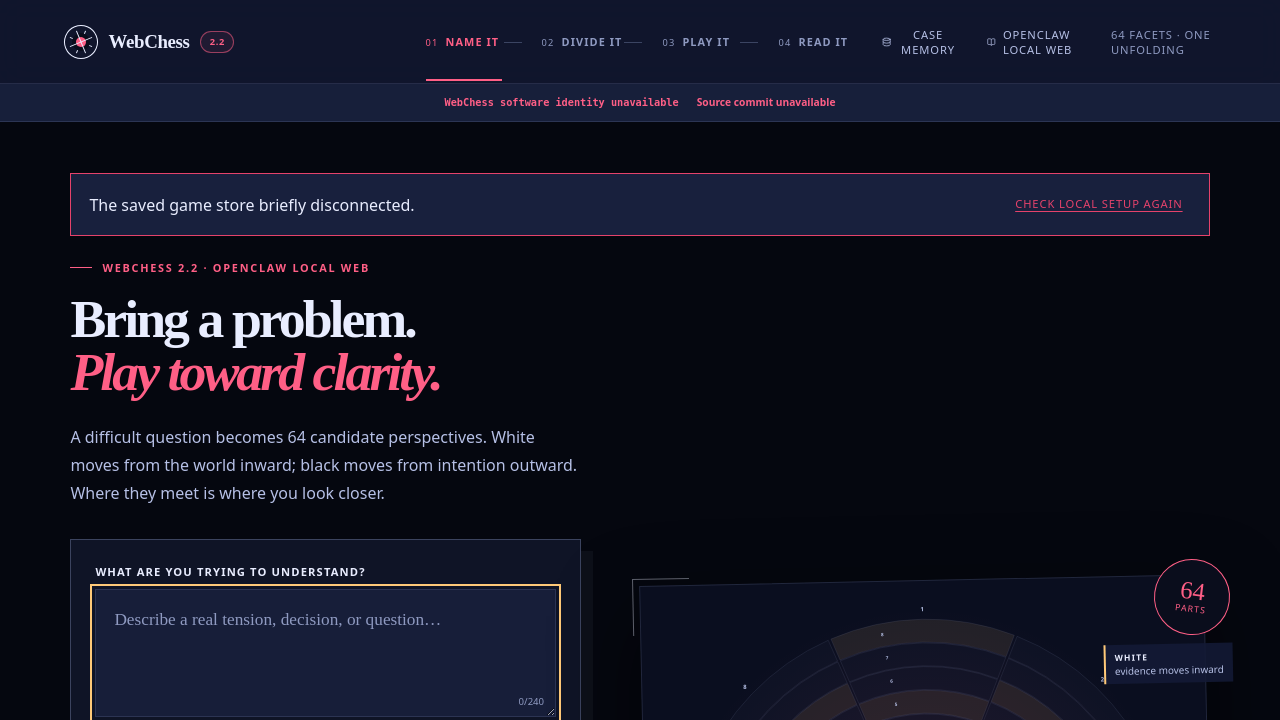
Test: durable WebChess client flow › treats an absent local recovery as definitive after an ambiguous division
This screenshot has width=1280, height=720.
Step 1. Type "How should this position move toward a useful next step?" into the text box labelled "What are you trying to understand?" → {"x": 326, "y": 653}, box [95,589,556,717]
(page scrolled)
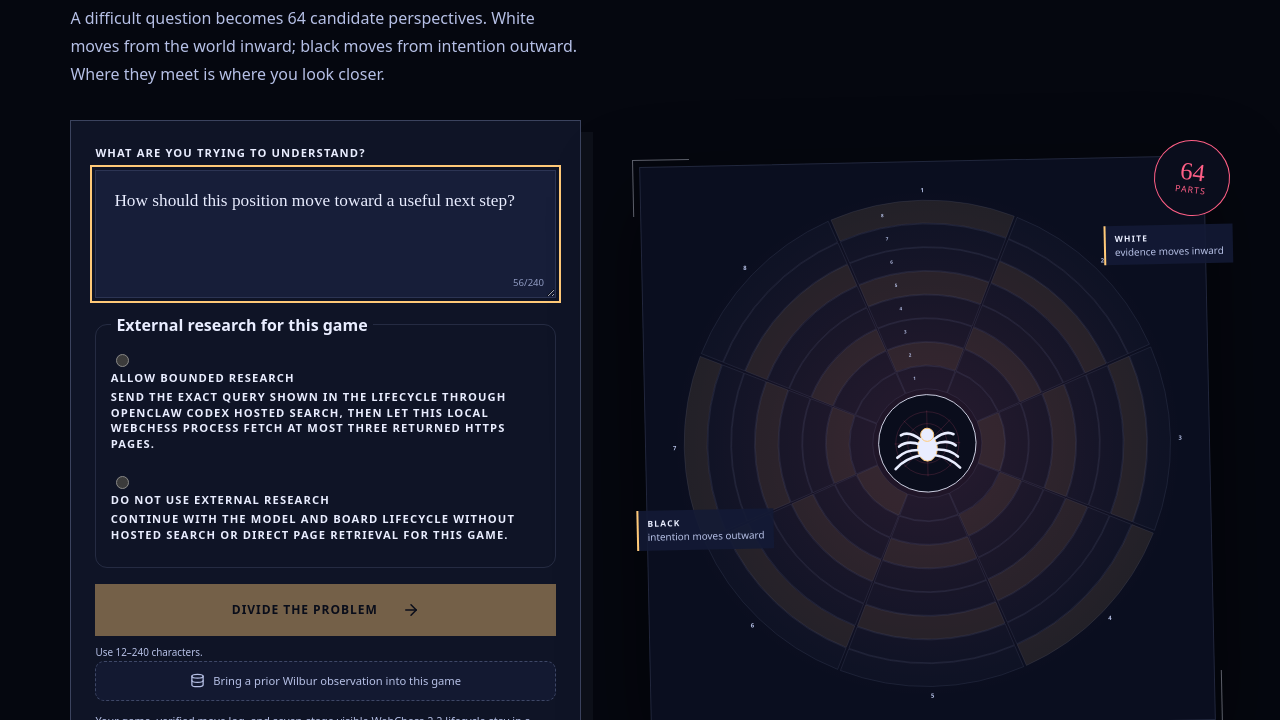
Step 2. Click the radio button labelled "Allow bounded research" → {"x": 122, "y": 361}, box [116,354,129,367]
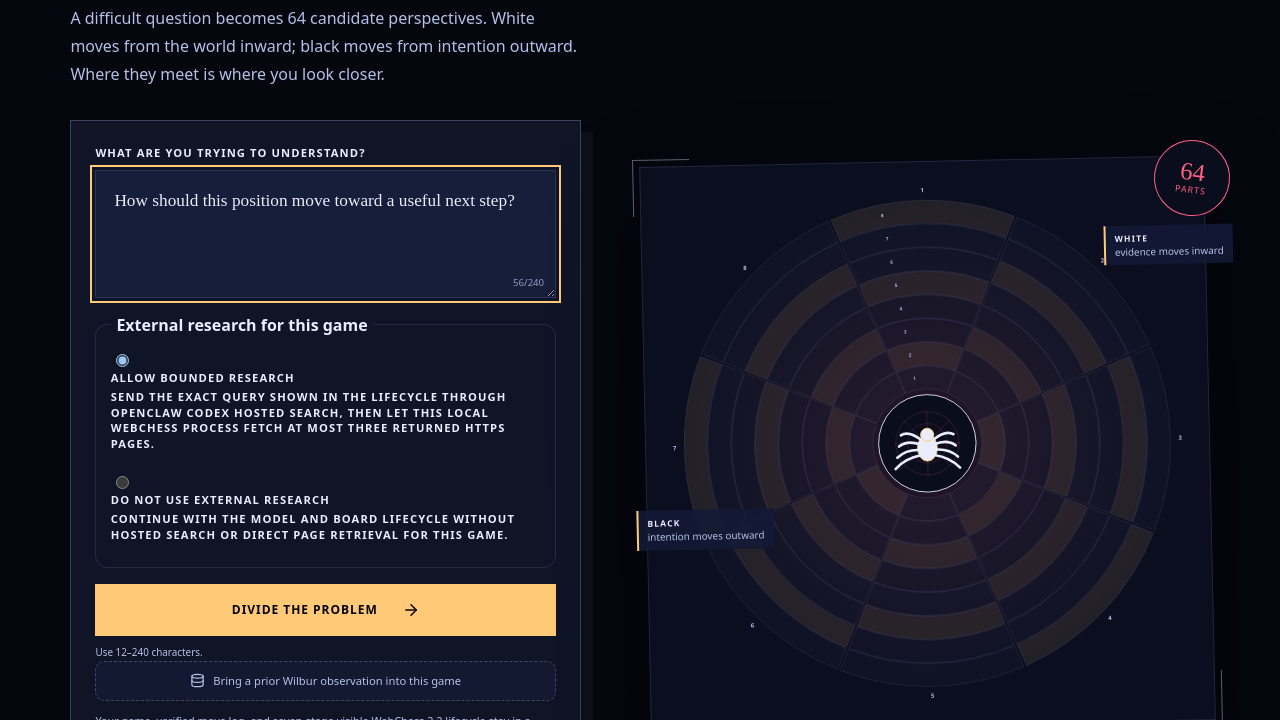
Step 3. Click the button "Divide the problem" → {"x": 326, "y": 610}, box [95,584,556,636]
(page scrolled)
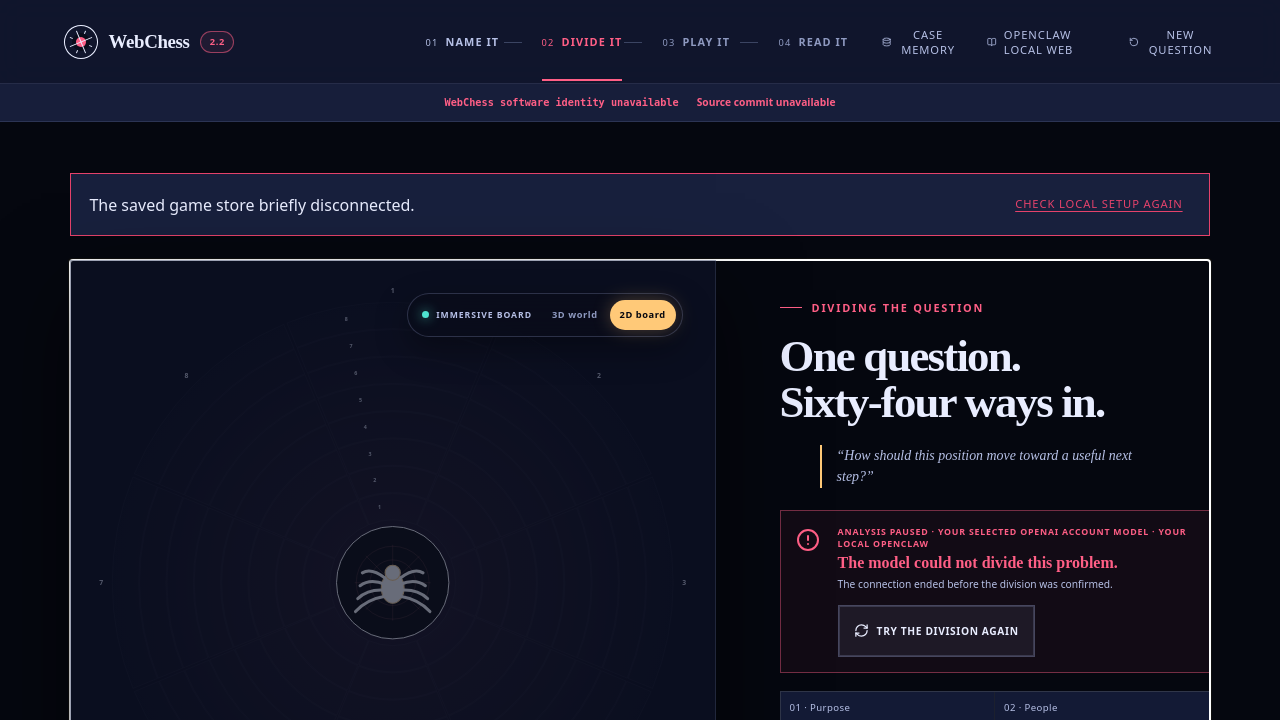
Result: the text "The connection ended before the division was confirmed." is shown at [838,577,1113,591]
Result: the button "New question" is enabled
Step 4. Click the button "New question" → {"x": 1172, "y": 42}, box [1121,18,1222,64]
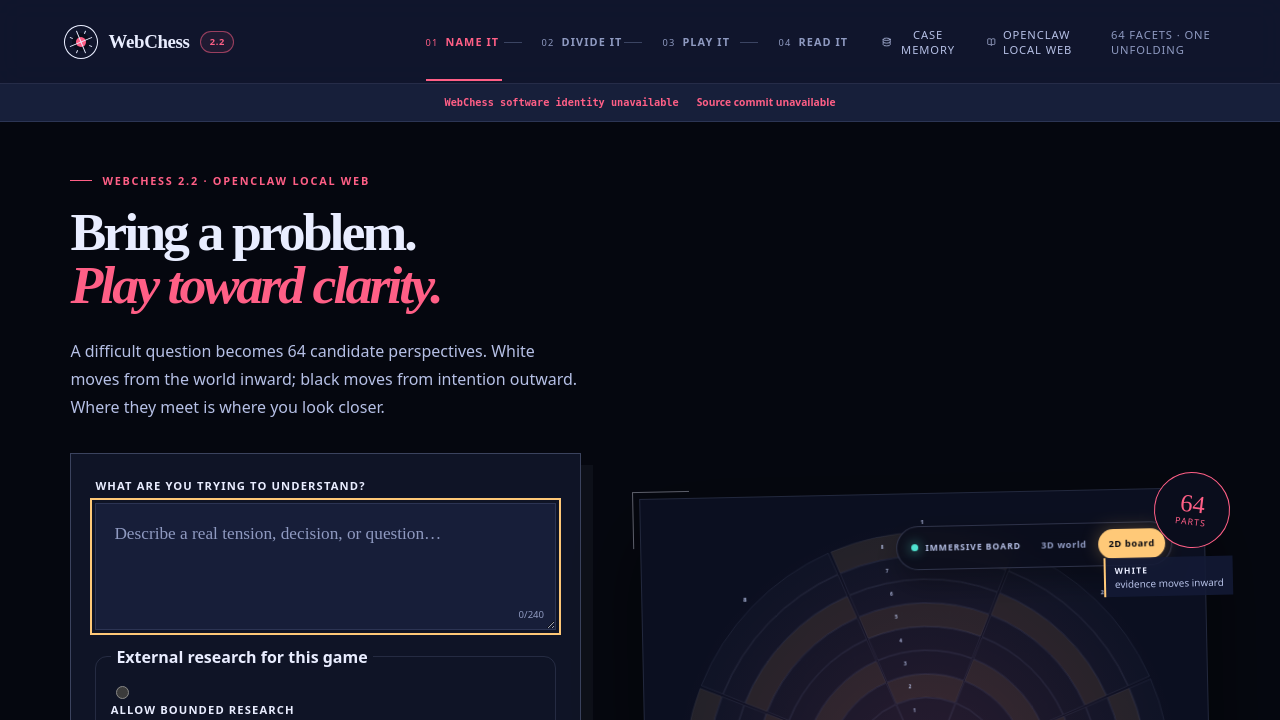
Result: the text "connection ended before the division was confirmed" is gone
